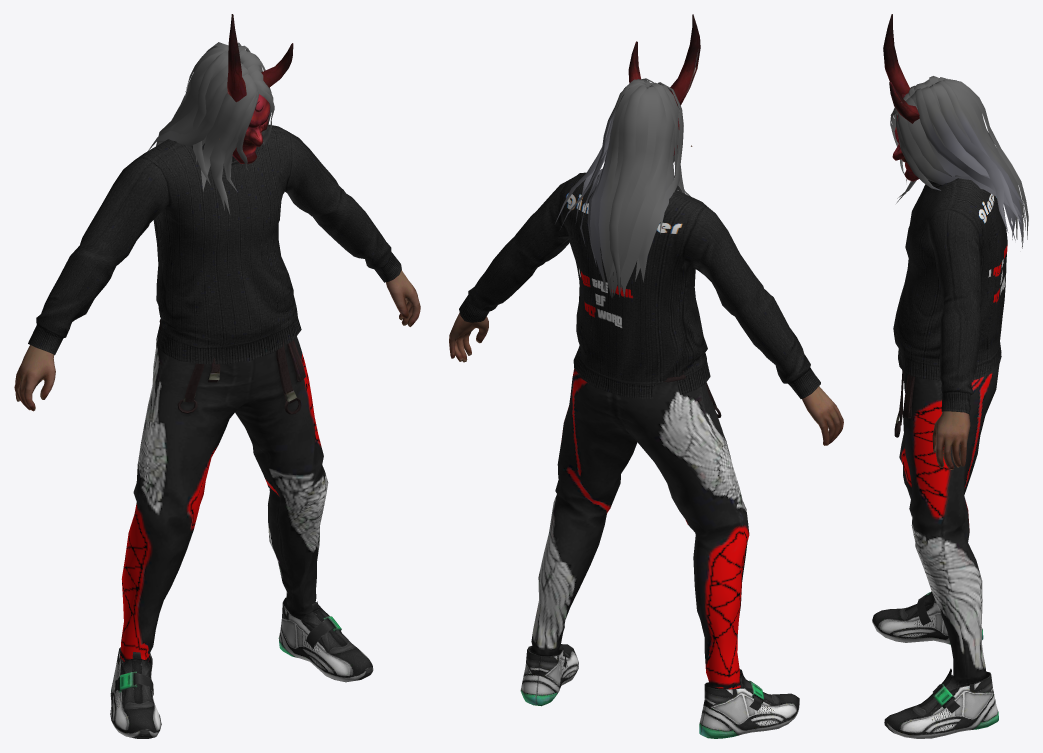
Rendered from zombie3.gltf.
3 views of the same model, side by side, from view 1: azimuth 30°, elevation 25°; view 2: azimuth 150°, elevation 25°; view 3: azimuth 270°, elevation 25° (orthographic). The views are drawn at different scales.
Parts seen in each view (by area): view 1: Object_4, Object_5, Object_3, Object_2, Object_6; view 2: Object_4, Object_5, Object_3, Object_2, Object_6; view 3: Object_4, Object_5, Object_3, Object_2, Object_6.
Boxes of the visible parts, x1,y1,x2,y2 form: Object_4: (28, 124, 401, 364); Object_5: (120, 319, 328, 661); Object_3: (148, 14, 293, 214); Object_2: (110, 597, 373, 738); Object_6: (14, 138, 420, 411); Object_4: (459, 172, 820, 399); Object_5: (531, 369, 749, 689); Object_3: (555, 14, 700, 297); Object_2: (520, 644, 799, 738); Object_6: (449, 145, 843, 445); Object_4: (893, 175, 1007, 416); Object_5: (894, 355, 1001, 685); Object_3: (883, 14, 1028, 248); Object_2: (872, 591, 998, 738); Object_6: (932, 411, 970, 469).
Size of the model in its own units: 2.73 by 4.6 by 0.987.
5 materials, 5 textured.
